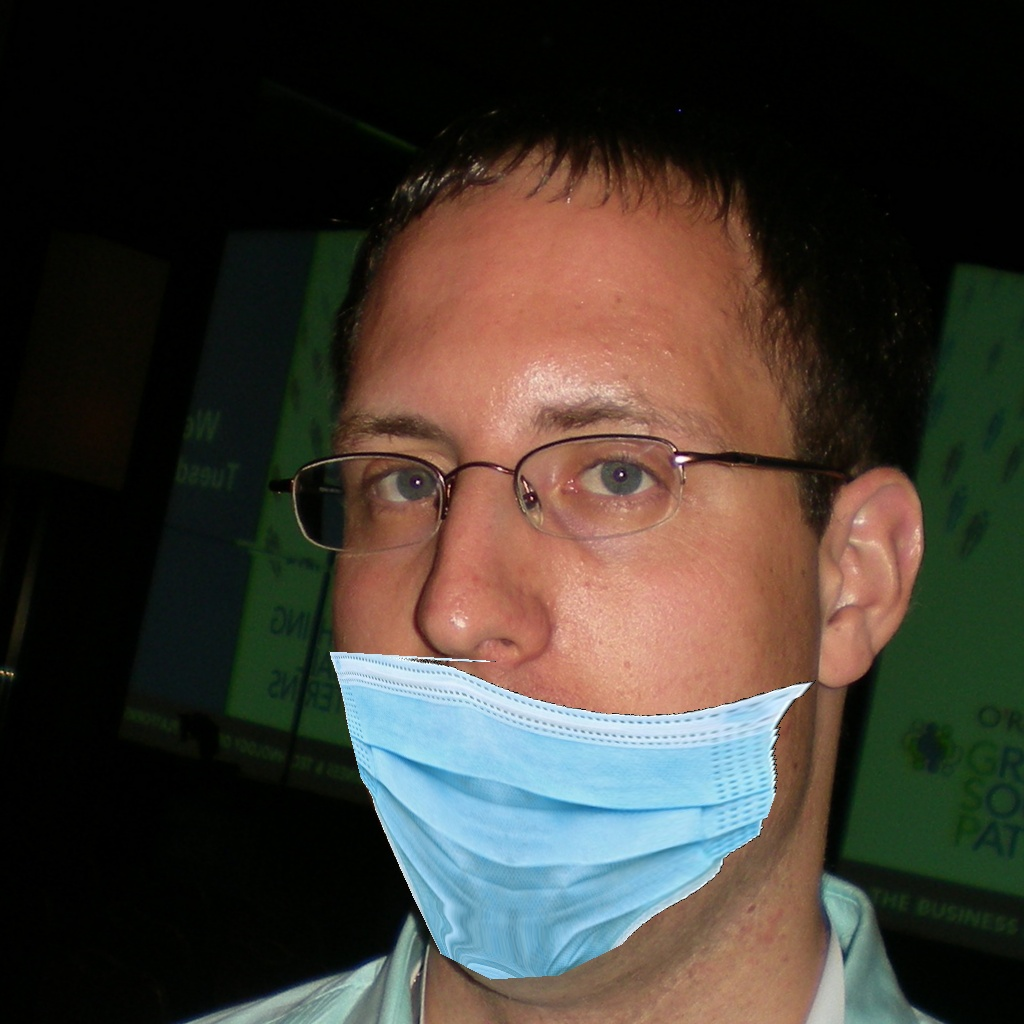mask_weared_incorrect: (267, 390, 854, 985)
